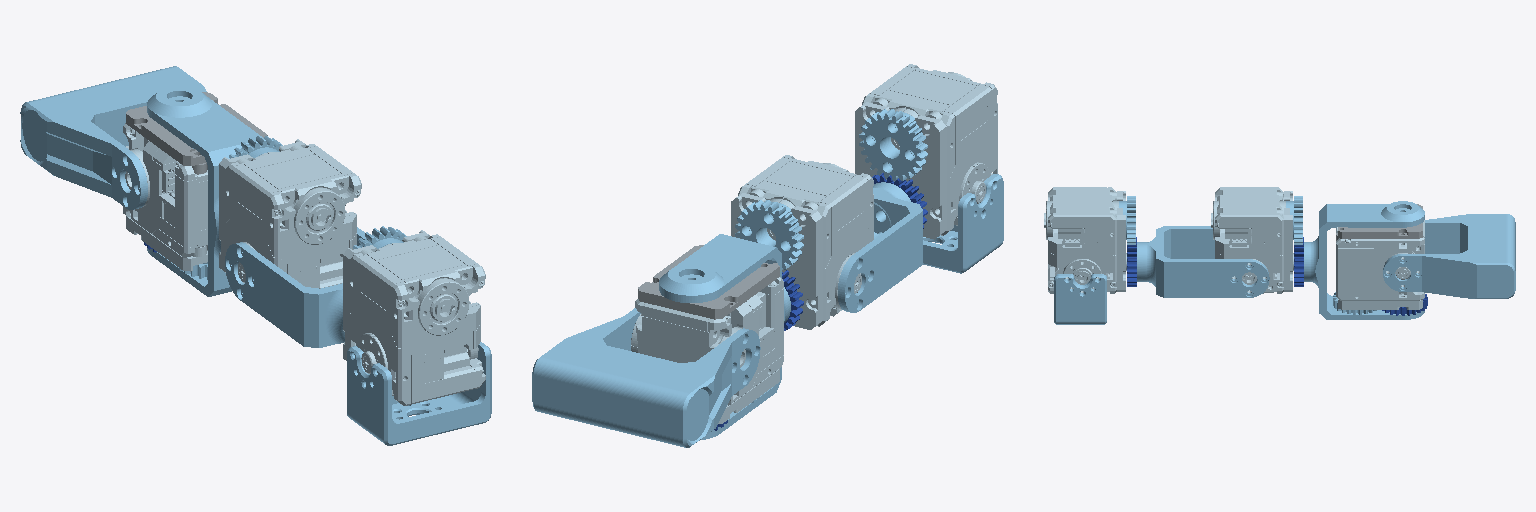
URDF robot description (right_arm_hand):
<?xml version="1.0" ?><robot name="right_arm_hand">  
  <link name="sho_pitch_link">    
    <visual>      
      <origin xyz="0 0 0" rpy="0 -0 0"/>      
      <geometry>        
        <mesh filename="package:///meshes/right_sho_pitch_link_visual.stl"/>        
      </geometry>      
      <material name="sho_pitch_link_material">        
        <color rgba="0.61568627450980395466 0.81176470588235294379 0.92941176470588238168 1.0"/>        
      </material>      
    </visual>    
    <collision>      
      <origin xyz="0 0 0" rpy="0 -0 0"/>      
      <geometry>        
        <mesh filename="package:///meshes/right_sho_pitch_link_collision.stl"/>        
      </geometry>      
    </collision>    
    <inertial>      
      <origin xyz="5.8254248833227925391e-11 -5.1264642561120870874e-05 0.0082440788127094936227" rpy="0 0 0"/>      
      <mass value="0.0086000000000000017403"/>      
      <inertia ixx="1.2272887040545796108e-06" ixy="-2.1429944210751515172e-14" ixz="-8.5847198977296208559e-15" iyy="2.9107306060364624323e-06" iyz="7.4623841398182868942e-09" izz="3.0803135950773496163e-06"/>      
    </inertial>    
  </link>  

  <link name="2xl430_gears">    
    <visual>      
      <origin xyz="0 0 0" rpy="0 -0 0"/>      
      <geometry>        
        <mesh filename="package:///meshes/right_2xl430_gears_visual.stl"/>        
      </geometry>      
      <material name="2xl430_gears_material">        
        <color rgba="0.7560598568794409946 0.8580469596269301169 0.91320266199377464478 1.0"/>        
      </material>      
    </visual>    
    <collision>      
      <origin xyz="0 0 0" rpy="0 -0 0"/>      
      <geometry>        
        <mesh filename="package:///meshes/right_2xl430_gears_collision.stl"/>        
      </geometry>      
    </collision>    
    <inertial>      
      <origin xyz="-0.011579403981034309609 -0.0024225766141400444445 -0.018551095523803729642" rpy="0 0 0"/>      
      <mass value="0.11800003674524910113"/>      
      <inertia ixx="2.74822980832362953e-05" ixy="9.2729623432968279486e-07" ixz="-2.2634512004040774455e-08" iyy="3.2770742486672703063e-05" iyz="-6.5708346020122078569e-07" izz="3.5767957544054489356e-05"/>      
    </inertial>    
  </link>  

  <link name="spur_1m_24t_drive">    
    <visual>      
      <origin xyz="0 0 0" rpy="0 -0 0"/>      
      <geometry>        
        <mesh filename="package:///meshes/right_spur_1m_24t_drive_visual.stl"/>        
      </geometry>      
      <material name="spur_1m_24t_drive_material">        
        <color rgba="0.61568627450980406568 0.81176470588235294379 0.92941176470588238168 1.0"/>        
      </material>      
    </visual>    
    <collision>      
      <origin xyz="0 0 0" rpy="0 -0 0"/>      
      <geometry>        
        <mesh filename="package:///meshes/right_spur_1m_24t_drive_collision.stl"/>        
      </geometry>      
    </collision>    
    <inertial>      
      <origin xyz="-7.7449201694380103674e-15 -1.2122842274909869457e-16 0.0047949116178401460231" rpy="0 0 0"/>      
      <mass value="0.0032000000000000001533"/>      
      <inertia ixx="1.4019331346159885055e-07" ixy="1.6002409988709471321e-15" ixz="1.6522681797794400838e-36" iyy="1.4019331260388783538e-07" iyz="-8.3216796199689772502e-37" izz="2.3838919844264060647e-07"/>      
    </inertial>    
  </link>  

  <joint name="right_sho_yaw_drive" type="revolute">    
    <origin xyz="-0.024000000716138239487 -0.019000000152445333662 -0.019000000152448428409" rpy="1.5707963267949289765 -7.4034293748640148514e-14 5.4343716361633809931e-15"/>    
    <parent link="2xl430_gears"/>    
    <child link="spur_1m_24t_drive"/>    
    <axis xyz="0 0 1"/>    
    <limit effort="1" velocity="20" lower="-2.6179938779914944114" upper="2.6179938779914944114"/>    
    <joint_properties friction="0.0"/>    
  </joint>  

  <link name="spur_1m_24t_driven">    
    <visual>      
      <origin xyz="0 0 0" rpy="0 -0 0"/>      
      <geometry>        
        <mesh filename="package:///meshes/right_spur_1m_24t_driven_visual.stl"/>        
      </geometry>      
      <material name="spur_1m_24t_driven_material">        
        <color rgba="0.23137254901960788156 0.38039215686274507888 0.7058823529411765163 1.0"/>        
      </material>      
    </visual>    
    <collision>      
      <origin xyz="0 0 0" rpy="0 -0 0"/>      
      <geometry>        
        <mesh filename="package:///meshes/right_spur_1m_24t_driven_collision.stl"/>        
      </geometry>      
    </collision>    
    <inertial>      
      <origin xyz="2.3351569794102434061e-18 -5.8049097389032844891e-15 -0.00097054817521928168911" rpy="0 0 0"/>      
      <mass value="0.0027000000000000001429"/>      
      <inertia ixx="1.2036234079571068356e-07" ixy="0" ixz="0" iyy="1.203623407957104718e-07" iyz="5.3440906710062121485e-38" izz="2.2847261745924543257e-07"/>      
    </inertial>    
  </link>  

  <link name="sho_yaw_link">    
    <visual>      
      <origin xyz="0 0 0" rpy="0 -0 0"/>      
      <geometry>        
        <mesh filename="package:///meshes/right_sho_yaw_link_visual.stl"/>        
      </geometry>      
      <material name="sho_yaw_link_material">        
        <color rgba="0.61568627450980395466 0.81176470588235294379 0.92941176470588238168 1.0"/>        
      </material>      
    </visual>    
    <collision>      
      <origin xyz="0 0 0" rpy="0 -0 0"/>      
      <geometry>        
        <mesh filename="package:///meshes/right_sho_yaw_link_collision.stl"/>        
      </geometry>      
    </collision>    
    <inertial>      
      <origin xyz="-4.69694518243200415e-18 3.1874712151647975612e-18 -0.024303257848520158635" rpy="0 0 0"/>      
      <mass value="0.014500000000000007674"/>      
      <inertia ixx="9.084667005304133196e-06" ixy="3.6224092806514836327e-13" ixz="4.2856349173707358141e-43" iyy="5.6910950712097499617e-06" iyz="4.9879708115840687513e-36" izz="4.4819609845548958989e-06"/>      
    </inertial>    
  </link>  

  <link name="2xl430_gears_2">    
    <visual>      
      <origin xyz="0 0 0" rpy="0 -0 0"/>      
      <geometry>        
        <mesh filename="package:///meshes/right_2xl430_gears_2_visual.stl"/>        
      </geometry>      
      <material name="2xl430_gears_2_material">        
        <color rgba="0.7560598568794409946 0.8580469596269301169 0.91320266199377464478 1.0"/>        
      </material>      
    </visual>    
    <collision>      
      <origin xyz="0 0 0" rpy="0 -0 0"/>      
      <geometry>        
        <mesh filename="package:///meshes/right_2xl430_gears_2_collision.stl"/>        
      </geometry>      
    </collision>    
    <inertial>      
      <origin xyz="-0.011579403981040218077 -0.0024225766141398393134 -0.018551095523805894577" rpy="0 0 0"/>      
      <mass value="0.11800003674524910113"/>      
      <inertia ixx="2.7482298083237697987e-05" ixy="9.2729623432884147938e-07" ixz="-2.2634512003741295368e-08" iyy="3.2770742486673692397e-05" iyz="-6.5708346020153291733e-07" izz="3.5767957544055736189e-05"/>      
    </inertial>    
  </link>  

  <link name="spur_1m_24t_drive_2">    
    <visual>      
      <origin xyz="0 0 0" rpy="0 -0 0"/>      
      <geometry>        
        <mesh filename="package:///meshes/right_spur_1m_24t_drive_2_visual.stl"/>        
      </geometry>      
      <material name="spur_1m_24t_drive_2_material">        
        <color rgba="0.61568627450980406568 0.81176470588235294379 0.92941176470588238168 1.0"/>        
      </material>      
    </visual>    
    <collision>      
      <origin xyz="0 0 0" rpy="0 -0 0"/>      
      <geometry>        
        <mesh filename="package:///meshes/right_spur_1m_24t_drive_2_collision.stl"/>        
      </geometry>      
    </collision>    
    <inertial>      
      <origin xyz="-7.7587979572458248242e-15 -1.2122842274909869457e-16 0.0047949116178401382168" rpy="0 0 0"/>      
      <mass value="0.0032000000000000001533"/>      
      <inertia ixx="1.4019331346159885055e-07" ixy="1.6002409988709471321e-15" ixz="-1.168170481262866476e-35" iyy="1.4019331260388783538e-07" iyz="2.4795678825907445192e-36" izz="2.3838919844264060647e-07"/>      
    </inertial>    
  </link>  

  <joint name="right_elbow_yaw_drive" type="revolute">    
    <origin xyz="-0.024000000716147155966 -0.019000000152450832736 -0.019000000152450298441" rpy="1.5707963267949571762 2.9595367256237359919e-14 -6.4343145465762955833e-14"/>    
    <parent link="2xl430_gears_2"/>    
    <child link="spur_1m_24t_drive_2"/>    
    <axis xyz="0 0 1"/>    
    <limit effort="1" velocity="20" lower="-2.6179938779914944114" upper="2.6179938779914944114"/>    
    <joint_properties friction="0.0"/>    
  </joint>  

  <link name="spur_1m_24t_driven_2">    
    <visual>      
      <origin xyz="0 0 0" rpy="0 -0 0"/>      
      <geometry>        
        <mesh filename="package:///meshes/right_spur_1m_24t_driven_2_visual.stl"/>        
      </geometry>      
      <material name="spur_1m_24t_driven_2_material">        
        <color rgba="0.23137254901960788156 0.38039215686274507888 0.7058823529411765163 1.0"/>        
      </material>      
    </visual>    
    <collision>      
      <origin xyz="0 0 0" rpy="0 -0 0"/>      
      <geometry>        
        <mesh filename="package:///meshes/right_spur_1m_24t_driven_2_collision.stl"/>        
      </geometry>      
    </collision>    
    <inertial>      
      <origin xyz="-1.1342899725433707827e-18 -5.8049097389032868557e-15 -0.000970548175219288628" rpy="0 0 0"/>      
      <mass value="0.0027000000000000001429"/>      
      <inertia ixx="1.2036234079571068356e-07" ixy="0" ixz="0" iyy="1.203623407957104718e-07" iyz="-8.2412659182369258854e-37" izz="2.2847261745924543257e-07"/>      
    </inertial>    
  </link>  

  <link name="elb_yaw_link">    
    <visual>      
      <origin xyz="0 0 0" rpy="0 -0 0"/>      
      <geometry>        
        <mesh filename="package:///meshes/right_elb_yaw_link_visual.stl"/>        
      </geometry>      
      <material name="elb_yaw_link_material">        
        <color rgba="0.61568627450980395466 0.81176470588235294379 0.92941176470588227065 1.0"/>        
      </material>      
    </visual>    
    <collision>      
      <origin xyz="0 0 0" rpy="0 -0 0"/>      
      <geometry>        
        <mesh filename="package:///meshes/right_elb_yaw_link_collision.stl"/>        
      </geometry>      
    </collision>    
    <inertial>      
      <origin xyz="5.3127688027648185214e-08 0.001983363864196168759 -0.023416643551549966296" rpy="0 0 0"/>      
      <mass value="0.017500000000000001665"/>      
      <inertia ixx="1.4134344903109199776e-05" ixy="1.694578392200579355e-12" ixz="-1.1286398721858038578e-11" iyy="6.6435900776211340404e-06" iyz="1.0545227077253057579e-06" izz="8.9925290757998976773e-06"/>      
    </inertial>    
  </link>  

  <link name="spur_1m_24t_driven_3">    
    <visual>      
      <origin xyz="0 0 0" rpy="0 -0 0"/>      
      <geometry>        
        <mesh filename="package:///meshes/right_spur_1m_24t_driven_3_visual.stl"/>        
      </geometry>      
      <material name="spur_1m_24t_driven_3_material">        
        <color rgba="0.23137254901960788156 0.38039215686274507888 0.7058823529411765163 1.0"/>        
      </material>      
    </visual>    
    <collision>      
      <origin xyz="0 0 0" rpy="0 -0 0"/>      
      <geometry>        
        <mesh filename="package:///meshes/right_spur_1m_24t_driven_3_collision.stl"/>        
      </geometry>      
    </collision>    
    <inertial>      
      <origin xyz="2.3351569794102441765e-18 -5.8049097389032868557e-15 -0.0025705481752192824163" rpy="0 0 0"/>      
      <mass value="0.0027000000000000001429"/>      
      <inertia ixx="1.2036234079571068356e-07" ixy="-7.6954038306055239825e-37" ixz="6.0796998427618674805e-36" iyy="1.203623407957104718e-07" iyz="2.9665199080575669822e-38" izz="2.2847261745924543257e-07"/>      
    </inertial>    
  </link>  

  <link name="2xl430_gears_3">    
    <visual>      
      <origin xyz="0 0 0" rpy="0 -0 0"/>      
      <geometry>        
        <mesh filename="package:///meshes/right_2xl430_gears_3_visual.stl"/>        
      </geometry>      
      <material name="2xl430_gears_3_material">        
        <color rgba="0.7560598568794409946 0.8580469596269301169 0.91320266199377464478 1.0"/>        
      </material>      
    </visual>    
    <collision>      
      <origin xyz="0 0 0" rpy="0 -0 0"/>      
      <geometry>        
        <mesh filename="package:///meshes/right_2xl430_gears_3_collision.stl"/>        
      </geometry>      
    </collision>    
    <inertial>      
      <origin xyz="0.00044890447620021274979 0.011579403622967100046 -0.024577423538309651346" rpy="0 0 0"/>      
      <mass value="0.11800003674524910113"/>      
      <inertia ixx="3.5767957544056081778e-05" ixy="2.2634512003692971477e-08" ixz="6.5708346020098224004e-07" iyy="2.7482298083237135557e-05" iyz="9.2729623433063051885e-07" izz="3.2770742486673123191e-05"/>      
    </inertial>    
  </link>  

  <link name="spur_1m_24t_drive_3">    
    <visual>      
      <origin xyz="0 0 0" rpy="0 -0 0"/>      
      <geometry>        
        <mesh filename="package:///meshes/right_spur_1m_24t_drive_3_visual.stl"/>        
      </geometry>      
      <material name="spur_1m_24t_drive_3_material">        
        <color rgba="0.61568627450980406568 0.81176470588235294379 0.92941176470588238168 1.0"/>        
      </material>      
    </visual>    
    <collision>      
      <origin xyz="0 0 0" rpy="0 -0 0"/>      
      <geometry>        
        <mesh filename="package:///meshes/right_spur_1m_24t_drive_3_collision.stl"/>        
      </geometry>      
    </collision>    
    <inertial>      
      <origin xyz="-7.7518590633419175958e-15 -1.2122842274909869457e-16 0.004794911617840143421" rpy="0 0 0"/>      
      <mass value="0.0032000000000000001533"/>      
      <inertia ixx="1.4019331346159885055e-07" ixy="1.6002410034284993069e-15" ixz="1.1686733432993132789e-36" iyy="1.4019331260388780891e-07" iyz="-2.1243526921822021829e-37" izz="2.3838919844264060647e-07"/>      
    </inertial>    
  </link>  

  <joint name="right_wrist_pitch_drive" type="revolute">    
    <origin xyz="-1.5244304577405686261e-10 0.024000000358071177375 -0.0080000000000011797785" rpy="-1.0519265191422955506e-14 5.4953979628752545946e-14 -1.5707963267949167641"/>    
    <parent link="2xl430_gears_3"/>    
    <child link="spur_1m_24t_drive_3"/>    
    <axis xyz="0 0 1"/>    
    <limit effort="1" velocity="20" lower="-1.3962634015954635824" upper="1.9198621771937625091"/>    
    <joint_properties friction="0.0"/>    
  </joint>  

  <link name="hand">    
    <visual>      
      <origin xyz="0 0 0" rpy="0 -0 0"/>      
      <geometry>        
        <mesh filename="package:///meshes/right_hand_visual.stl"/>        
      </geometry>      
      <material name="hand_material">        
        <color rgba="0.61568627450980395466 0.81176470588235294379 0.92941176470588238168 1.0"/>        
      </material>      
    </visual>    
    <collision>      
      <origin xyz="0 0 0" rpy="0 -0 0"/>      
      <geometry>        
        <mesh filename="package:///meshes/right_hand_collision.stl"/>        
      </geometry>      
    </collision>    
    <inertial>      
      <origin xyz="-2.4899508580538796352e-10 0.040594531666389044311 -0.018520936085747969485" rpy="0 0 0"/>      
      <mass value="0.017000000000001441042"/>      
      <inertia ixx="9.2187594185322302979e-06" ixy="-1.5922040707505719383e-15" ixz="-1.0539511468854035967e-13" iyy="6.6718567758212730107e-06" iyz="2.1533596775200976319e-08" izz="3.778869841187656458e-06"/>      
    </inertial>    
  </link>  

  <joint name="right_wrist_roll" type="revolute">    
    <origin xyz="0.019000000000001921602 -3.5806768661217347471e-10 -0.027000000152449948193" rpy="-3.141592653589793116 -1.5707963267945153074 0"/>    
    <parent link="2xl430_gears_3"/>    
    <child link="hand"/>    
    <axis xyz="0 0 1"/>    
    <limit effort="1" velocity="20" lower="-1.3962634015954635824" upper="1.9198621771937625091"/>    
    <joint_properties friction="0.0"/>    
  </joint>  

  <link name="wrist_bearing_plate">    
    <visual>      
      <origin xyz="0 0 0" rpy="0 -0 0"/>      
      <geometry>        
        <mesh filename="package:///meshes/right_wrist_bearing_plate_visual.stl"/>        
      </geometry>      
      <material name="wrist_bearing_plate_material">        
        <color rgba="0.64496316278892629192 0.69011804996940528945 0.71706771073555886087 1.0"/>        
      </material>      
    </visual>    
    <collision>      
      <origin xyz="0 0 0" rpy="0 -0 0"/>      
      <geometry>        
        <mesh filename="package:///meshes/right_wrist_bearing_plate_collision.stl"/>        
      </geometry>      
    </collision>    
    <inertial>      
      <origin xyz="-0.0075835583121499515122 -0.015499999999999980807 -0.0018386323705903381311" rpy="0 0 0"/>      
      <mass value="0.0049000367468305548388"/>      
      <inertia ixx="4.9707430109150129132e-07" ixy="1.7595307898691874558e-22" ixz="1.8100904820814074952e-08" iyy="7.1268523603538605999e-07" iyz="-6.8569550891497160807e-23" izz="1.1919657811600115587e-06"/>      
    </inertial>    
  </link>  

  <joint name="right_wrist_pitch_fixed" type="fixed">    
    <origin xyz="0.015500000000003951589 4.4686476741162550752e-15 -0.045000000000003870237" rpy="5.3290705180300300612e-15 1.2051470932306253475e-13 -1.570796326794896558"/>    
    <parent link="2xl430_gears_3"/>    
    <child link="wrist_bearing_plate"/>    
    <axis xyz="0 0 1"/>    
    <limit effort="1" velocity="20"/>    
    <joint_properties friction="0.0"/>    
  </joint>  

  <joint name="right_wrist_pitch_driven" type="revolute">    
    <origin xyz="-2.7755575615628913511e-17 5.5220263365470826379e-30 -0.0015999999999999970409" rpy="8.7209719320528352177e-15 6.1232339997705582035e-17 1.5707963267948947816"/>    
    <parent link="spur_1m_24t_driven_3"/>    
    <child link="2xl430_gears_3"/>    
    <axis xyz="0 0 1"/>    
    <limit effort="1" velocity="20" lower="-1.9198621771937625091" upper="1.3962634015954635824"/>    
    <joint_properties friction="0.0"/>    
  </joint>  

  <joint name="right_wrist_roll_fixed" type="fixed">    
    <origin xyz="-3.9443045261050590271e-30 -0.025299999999999999573 -0.05200000000000001843" rpy="1.5707963267949385244 1.570796326794896558 0"/>    
    <parent link="elb_yaw_link"/>    
    <child link="spur_1m_24t_driven_3"/>    
    <axis xyz="0 0 1"/>    
    <limit effort="1" velocity="20"/>    
    <joint_properties friction="0.0"/>    
  </joint>  

  <joint name="right_elbow_yaw_fixed" type="fixed">    
    <origin xyz="-6.9388939039072283776e-18 0 0.0015999999999999625633" rpy="-3.1415926535897917837 -5.545896421255929151e-30 -1.570796326794896558"/>    
    <parent link="spur_1m_24t_driven_2"/>    
    <child link="elb_yaw_link"/>    
    <axis xyz="0 0 1"/>    
    <limit effort="1" velocity="20"/>    
    <joint_properties friction="0.0"/>    
  </joint>  

  <joint name="right_elbow_yaw_driven" type="revolute">    
    <origin xyz="-3.5807115258967847637e-10 -0.027000000152453060287 -0.019000000000002816719" rpy="1.5707963267949573982 3.0852757707134402472e-14 -1.047495423780654911e-13"/>    
    <parent link="2xl430_gears_2"/>    
    <child link="spur_1m_24t_driven_2"/>    
    <axis xyz="0 0 1"/>    
    <limit effort="1" velocity="20" lower="-2.6179938779914944114" upper="2.6179938779914944114"/>    
    <joint_properties friction="0.0"/>    
  </joint>  

  <joint name="right_elbow_roll" type="revolute">    
    <origin xyz="-3.4694469519536141888e-18 -0.018999999999999999528 -0.058999999999999996891" rpy="1.570796326794896558 -3.2439825080223504913e-13 -2.9976021665407794952e-15"/>    
    <parent link="sho_yaw_link"/>    
    <child link="2xl430_gears_2"/>    
    <axis xyz="0 0 1"/>    
    <limit effort="1" velocity="20" lower="-1.9198621771937625091" upper="2.4434609527920612138"/>    
    <joint_properties friction="0.0"/>    
  </joint>  

  <joint name="right_sho_yaw_fixed" type="fixed">    
    <origin xyz="0 1.1832913578315177081e-30 0.0015999999999999903189" rpy="3.141592653589793116 -0 0"/>    
    <parent link="spur_1m_24t_driven"/>    
    <child link="sho_yaw_link"/>    
    <axis xyz="0 0 1"/>    
    <limit effort="1" velocity="20"/>    
    <joint_properties friction="0.0"/>    
  </joint>  

  <joint name="right_sho_yaw_driven" type="revolute">    
    <origin xyz="-3.5806817233474674822e-10 -0.027000000152446659157 -0.019000000000003357953" rpy="1.5707963267949260899 -2.2055090607972632104e-14 -2.2204460492023508308e-16"/>    
    <parent link="2xl430_gears"/>    
    <child link="spur_1m_24t_driven"/>    
    <axis xyz="0 0 1"/>    
    <limit effort="1" velocity="20" lower="-2.6179938779914944114" upper="2.6179938779914944114"/>    
    <joint_properties friction="0.0"/>    
  </joint>  

  <joint name="right_sho_roll" type="revolute">    
    <origin xyz="-0.018999999999999999528 0.0010000000000000076102 0.027000000000000003164" rpy="-3.1415926535897797933 1.5707963267948090724 0"/>    
    <parent link="sho_pitch_link"/>    
    <child link="2xl430_gears"/>    
    <axis xyz="0 0 1"/>    
    <limit effort="1" velocity="20" lower="-1.570796326794896558" upper="0.34906585039886589561"/>    
    <joint_properties friction="0.0"/>    
  </joint>  


</robot>

--- Render facts (derived) ---
3 views of the same robot in one strip: view 1: azimuth 30°, elevation 25°; view 2: azimuth 150°, elevation 25°; view 3: azimuth 270°, elevation 25° (orthographic).
Model right_arm_hand with 14 links and 13 joints (9 revolute, 4 fixed), rooted at sho_pitch_link, posed every joint at zero.
Links seen in each view (by area): view 1: 2xl430_gears, 2xl430_gears_2, hand, 2xl430_gears_3, sho_pitch_link, elb_yaw_link, sho_yaw_link, wrist_bearing_plate, spur_1m_24t_drive, spur_1m_24t_drive_2; view 2: hand, 2xl430_gears, 2xl430_gears_2, 2xl430_gears_3, sho_yaw_link, elb_yaw_link, sho_pitch_link, spur_1m_24t_drive, wrist_bearing_plate, spur_1m_24t_drive_2, spur_1m_24t_driven_2, spur_1m_24t_driven; view 3: hand, 2xl430_gears, sho_yaw_link, 2xl430_gears_2, 2xl430_gears_3, elb_yaw_link, sho_pitch_link, wrist_bearing_plate, spur_1m_24t_drive, spur_1m_24t_drive_2.
Boxes of the visible links, bbox=[...] form: 2xl430_gears: bbox=[343, 230, 485, 405]; 2xl430_gears_2: bbox=[219, 139, 361, 288]; hand: bbox=[20, 66, 206, 209]; 2xl430_gears_3: bbox=[123, 123, 207, 271]; sho_pitch_link: bbox=[347, 342, 491, 445]; elb_yaw_link: bbox=[147, 86, 262, 296]; sho_yaw_link: bbox=[225, 227, 365, 347]; wrist_bearing_plate: bbox=[126, 92, 267, 174]; spur_1m_24t_drive: bbox=[353, 226, 406, 248]; spur_1m_24t_drive_2: bbox=[229, 136, 282, 158]; hand: bbox=[532, 308, 760, 447]; 2xl430_gears: bbox=[855, 64, 997, 239]; 2xl430_gears_2: bbox=[731, 155, 873, 329]; 2xl430_gears_3: bbox=[631, 277, 783, 423]; sho_yaw_link: bbox=[838, 182, 922, 312]; elb_yaw_link: bbox=[659, 234, 790, 440]; sho_pitch_link: bbox=[923, 174, 1003, 273]; spur_1m_24t_drive: bbox=[859, 109, 927, 181]; wrist_bearing_plate: bbox=[638, 245, 779, 319]; spur_1m_24t_drive_2: bbox=[735, 200, 803, 269]; spur_1m_24t_driven_2: bbox=[782, 270, 803, 330]; spur_1m_24t_driven: bbox=[872, 173, 927, 228]; hand: bbox=[1383, 214, 1515, 298]; 2xl430_gears: bbox=[1044, 187, 1126, 293]; sho_yaw_link: bbox=[1137, 226, 1269, 297]; 2xl430_gears_2: bbox=[1211, 187, 1293, 293]; 2xl430_gears_3: bbox=[1336, 220, 1424, 309]; elb_yaw_link: bbox=[1304, 201, 1424, 319]; sho_pitch_link: bbox=[1054, 274, 1106, 324]; wrist_bearing_plate: bbox=[1336, 204, 1422, 240]; spur_1m_24t_drive: bbox=[1119, 196, 1135, 244]; spur_1m_24t_drive_2: bbox=[1286, 196, 1302, 244].
Size in the robot's own frame: 0.063 by 0.2472 by 0.0652 metres.
14 mesh visuals loaded from 14 distinct referenced files (14 binary STL).